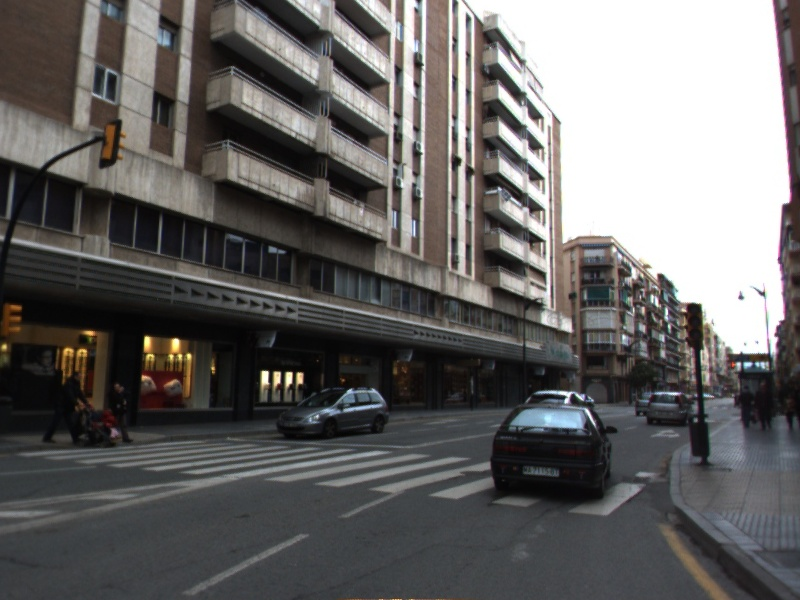STRAIGHT_RIGHT: (648, 426, 682, 441)
